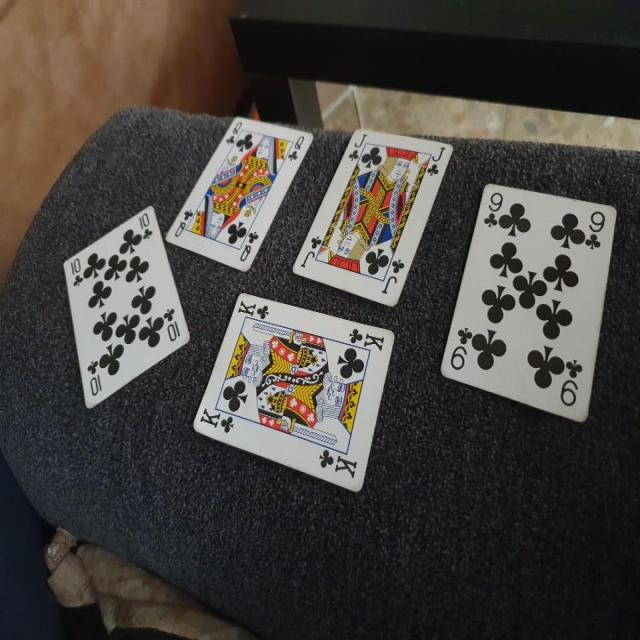10 Trefoils: (62, 204, 190, 409)
9 Trefoils: (438, 180, 618, 428)
J Trefoils: (291, 128, 454, 311)
K Trefoils: (191, 291, 395, 498)
Q Trefoils: (165, 116, 312, 272)
